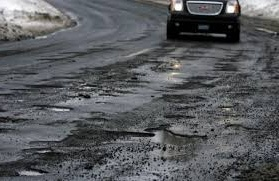pothole: (28, 124, 207, 150), (238, 157, 278, 181), (20, 151, 104, 162), (11, 83, 60, 97), (31, 102, 75, 113), (154, 92, 207, 101), (12, 165, 48, 177), (220, 120, 255, 131), (86, 44, 126, 53), (163, 80, 212, 87), (160, 110, 196, 119), (172, 103, 203, 113), (42, 117, 67, 128), (40, 54, 76, 61), (219, 103, 241, 113), (4, 68, 35, 75), (145, 65, 176, 72), (64, 92, 86, 101), (0, 116, 28, 123), (187, 73, 218, 79), (0, 47, 23, 54), (123, 78, 149, 84), (84, 116, 105, 123), (118, 88, 135, 95), (0, 126, 16, 133), (144, 58, 162, 63), (99, 92, 117, 96), (94, 100, 112, 104), (209, 67, 227, 71), (87, 110, 104, 114)
